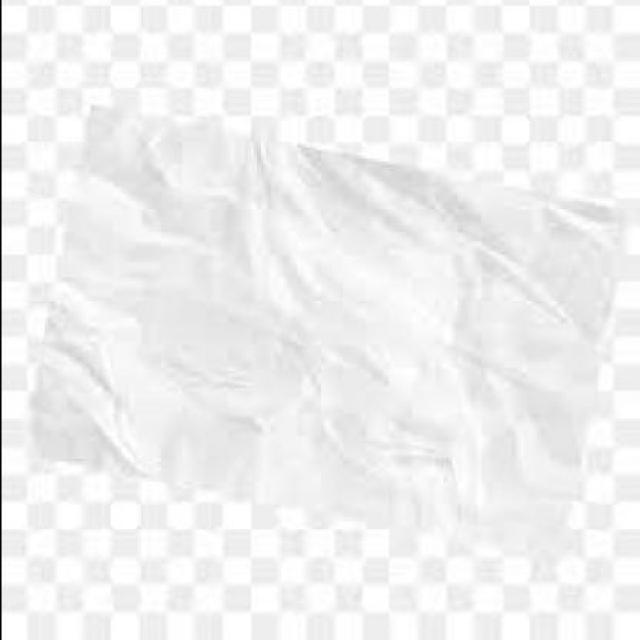PAPER: (41, 107, 632, 507)
